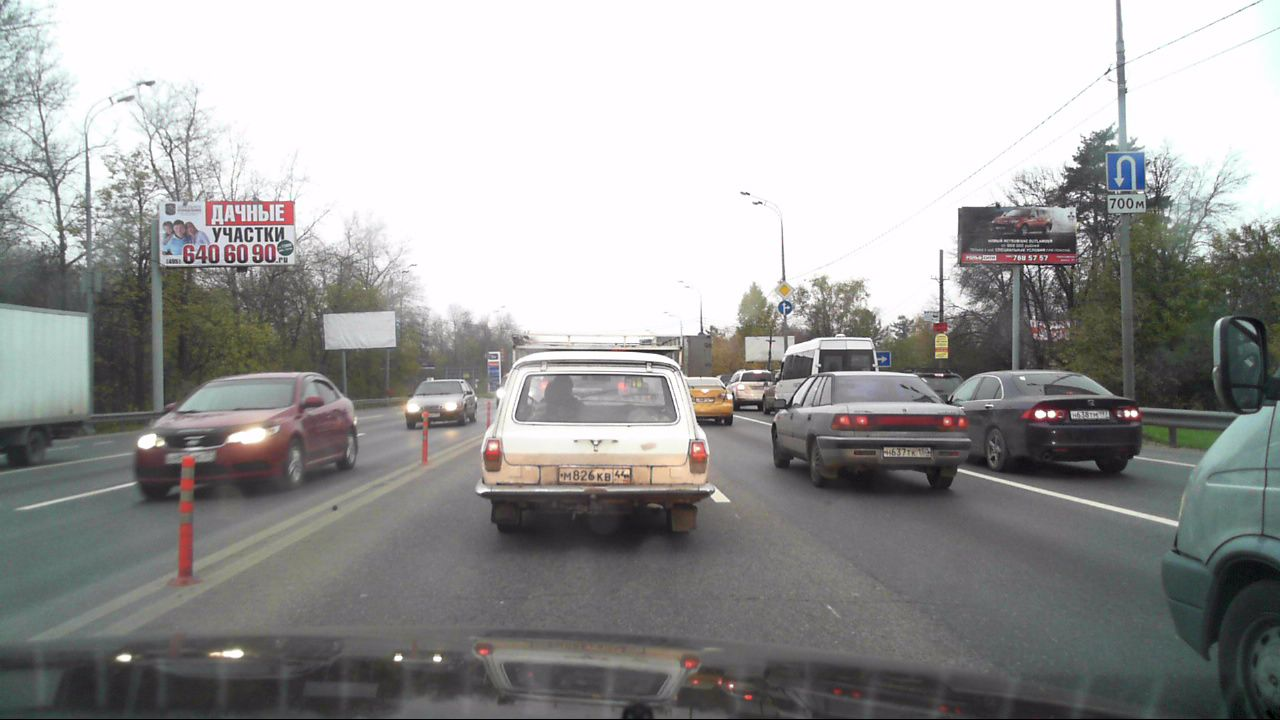U-turn: (1107, 152, 1145, 190)
